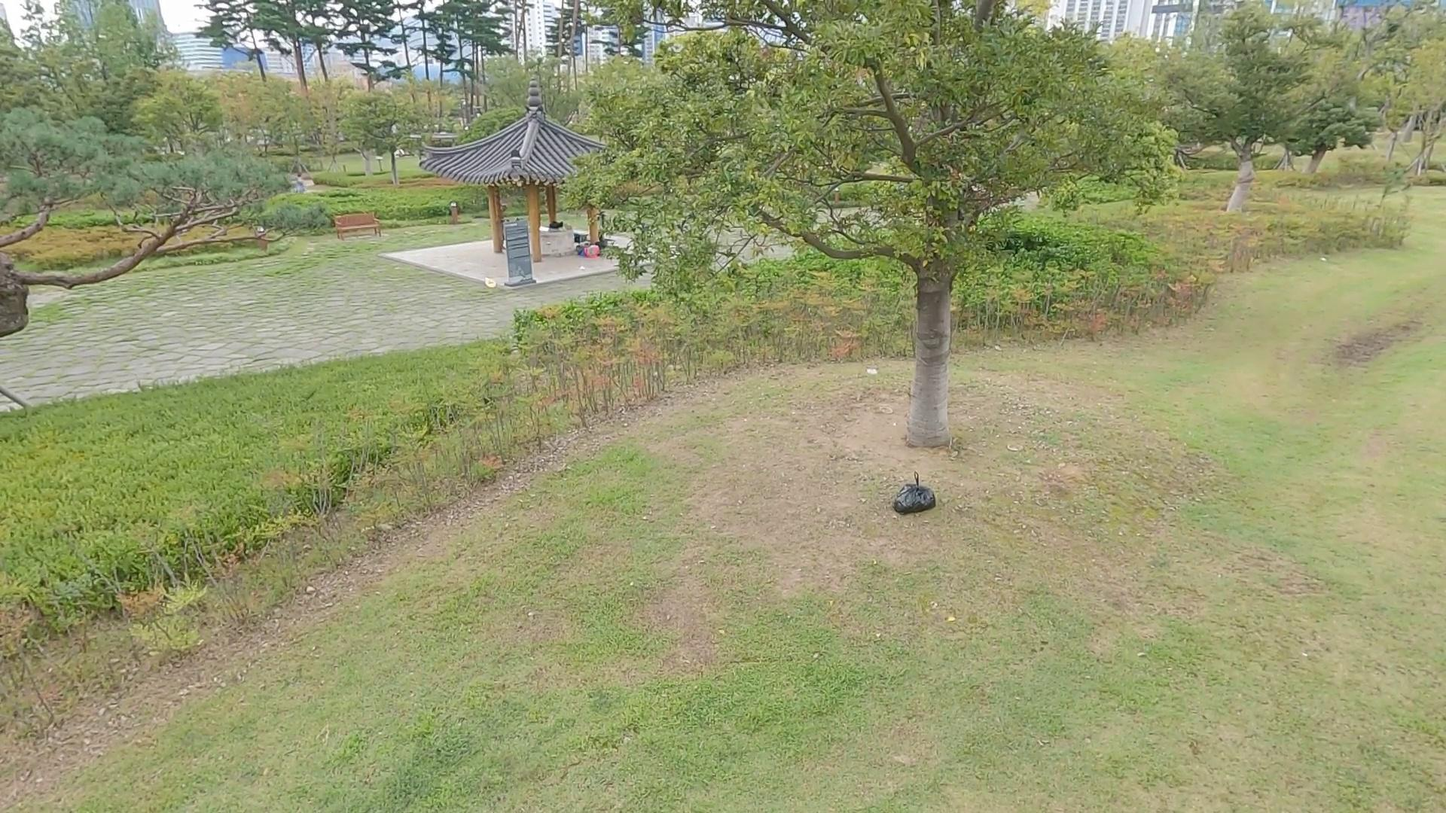trash: (893, 475, 936, 515), (867, 362, 882, 378)
